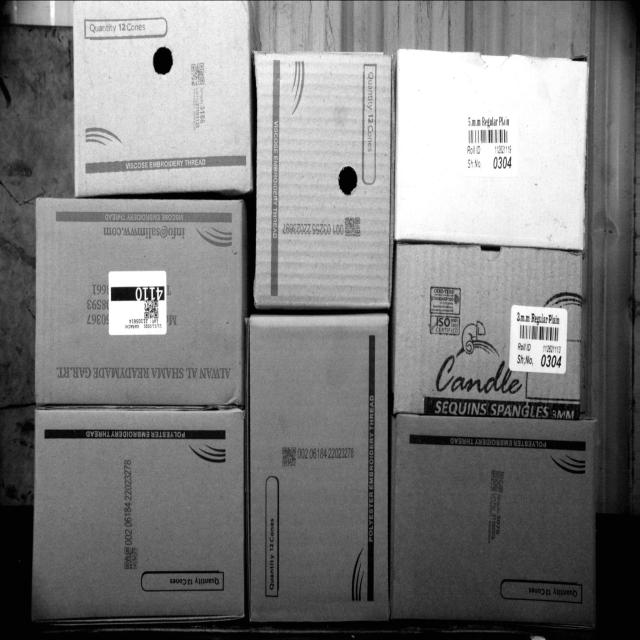cardboxes: (28, 409, 246, 630), (34, 194, 242, 406), (247, 318, 386, 626), (395, 415, 599, 621), (250, 47, 391, 306), (72, 0, 252, 200), (393, 60, 590, 238), (396, 246, 587, 418)
